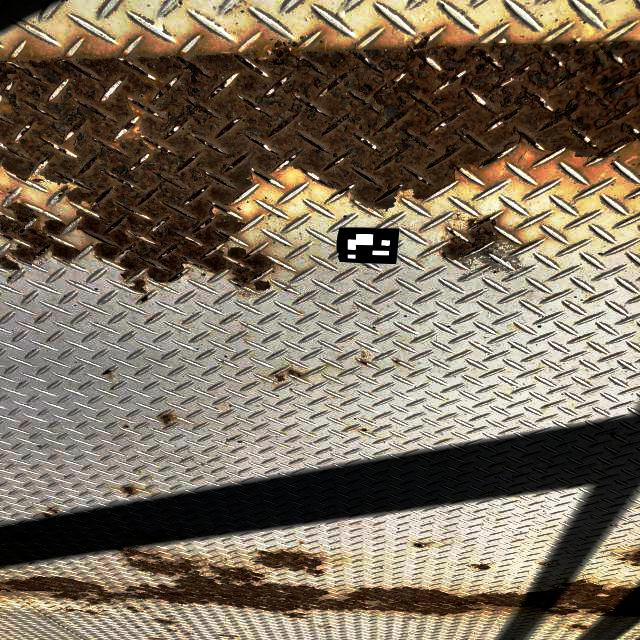Corrosion: (0, 35, 640, 291), (1, 549, 640, 618), (0, 202, 81, 266), (443, 217, 499, 260), (257, 549, 323, 577), (617, 550, 640, 566), (0, 253, 20, 271), (128, 278, 149, 295), (141, 532, 168, 542), (157, 413, 176, 427), (152, 618, 178, 625), (287, 368, 304, 378), (138, 291, 152, 303), (122, 486, 137, 497), (283, 613, 310, 619), (84, 610, 111, 616), (466, 564, 490, 570), (567, 624, 591, 630), (12, 536, 32, 542), (41, 512, 56, 520), (218, 634, 239, 639), (127, 606, 139, 613), (65, 607, 79, 613), (0, 587, 13, 593), (275, 375, 285, 382), (47, 507, 58, 513), (102, 370, 112, 375), (538, 562, 547, 567), (359, 361, 367, 366), (415, 544, 425, 548), (149, 638, 168, 640), (360, 429, 368, 432), (125, 535, 133, 538), (609, 432, 617, 435), (144, 607, 151, 610), (123, 425, 129, 428), (167, 629, 173, 632), (101, 610, 109, 612), (394, 360, 399, 363), (86, 604, 91, 607), (163, 612, 170, 614), (166, 615, 173, 617), (78, 610, 85, 612), (328, 626, 332, 629), (135, 626, 141, 628), (128, 620, 134, 622), (185, 633, 191, 635), (173, 630, 177, 632), (114, 607, 117, 609), (318, 626, 323, 627), (175, 626, 180, 627), (109, 618, 112, 619), (143, 622, 146, 623), (217, 638, 220, 638)
